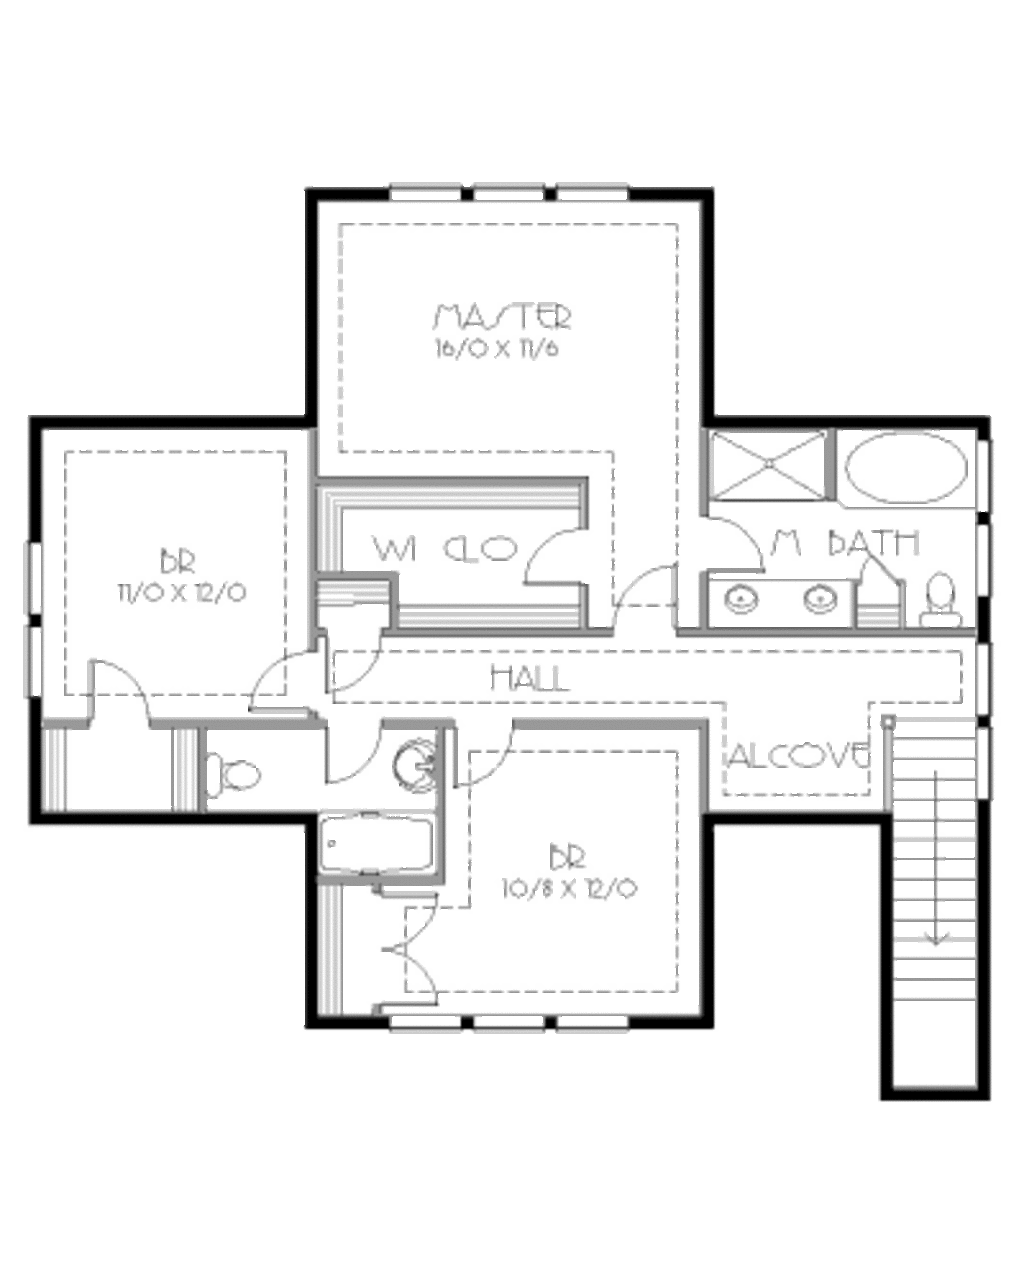door: (351, 882, 449, 1010), (599, 559, 691, 643), (240, 643, 332, 717), (79, 649, 157, 734), (446, 709, 520, 794), (700, 502, 773, 578), (316, 715, 389, 788), (508, 529, 591, 592), (324, 633, 383, 698)
large_sink: (200, 735, 283, 804), (922, 565, 967, 635)
small_sink: (700, 574, 851, 631)
stairs: (883, 709, 997, 1100), (861, 576, 910, 635)
tub: (848, 425, 983, 515), (318, 798, 442, 880)
window: (553, 176, 634, 217), (461, 178, 548, 215), (22, 619, 61, 700), (377, 176, 463, 206), (16, 537, 48, 615), (555, 1010, 628, 1031), (469, 1008, 548, 1027), (393, 1013, 465, 1031)
